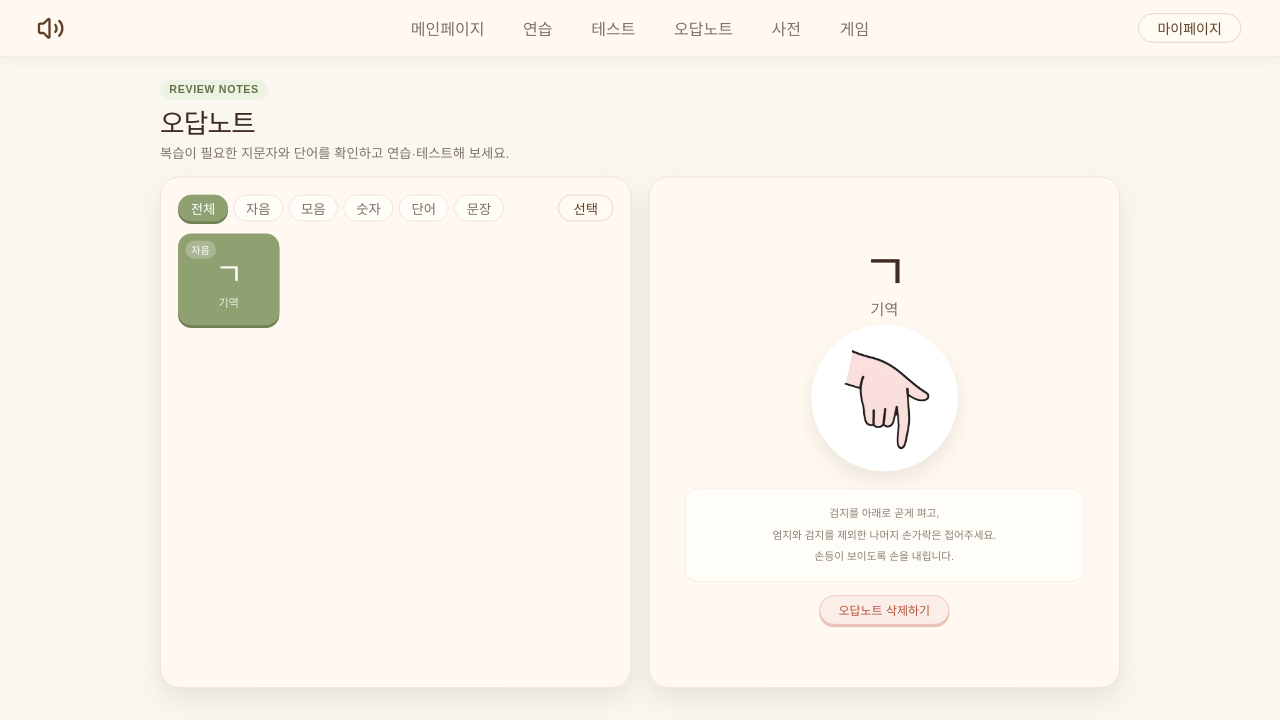
Test: ReviewNotesPage 상세 삭제 › 마지막 항목까지 지우면 빈 상태 뷰로 돌아간다
Click the button "오답노트 삭제하기" at (884, 610), box [819,595,950,624]
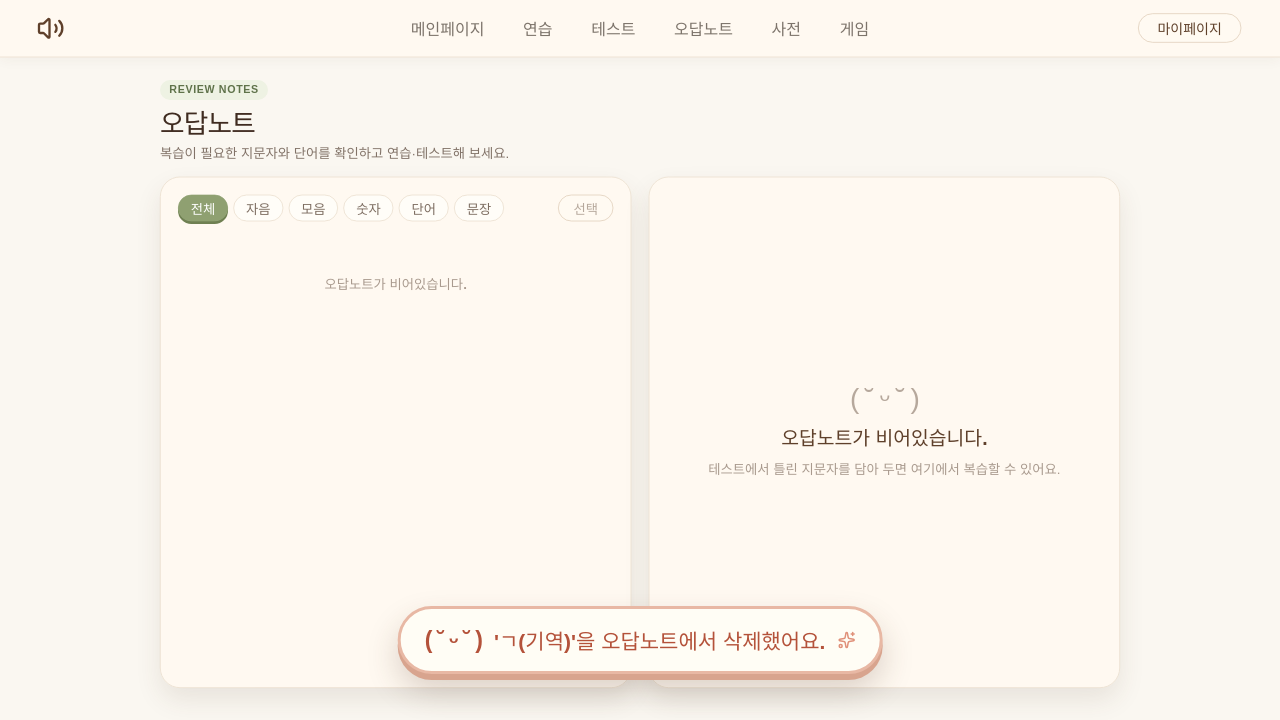
Now the text "오답노트가 비어있습니다." is shown, box [324,277,467,291]
